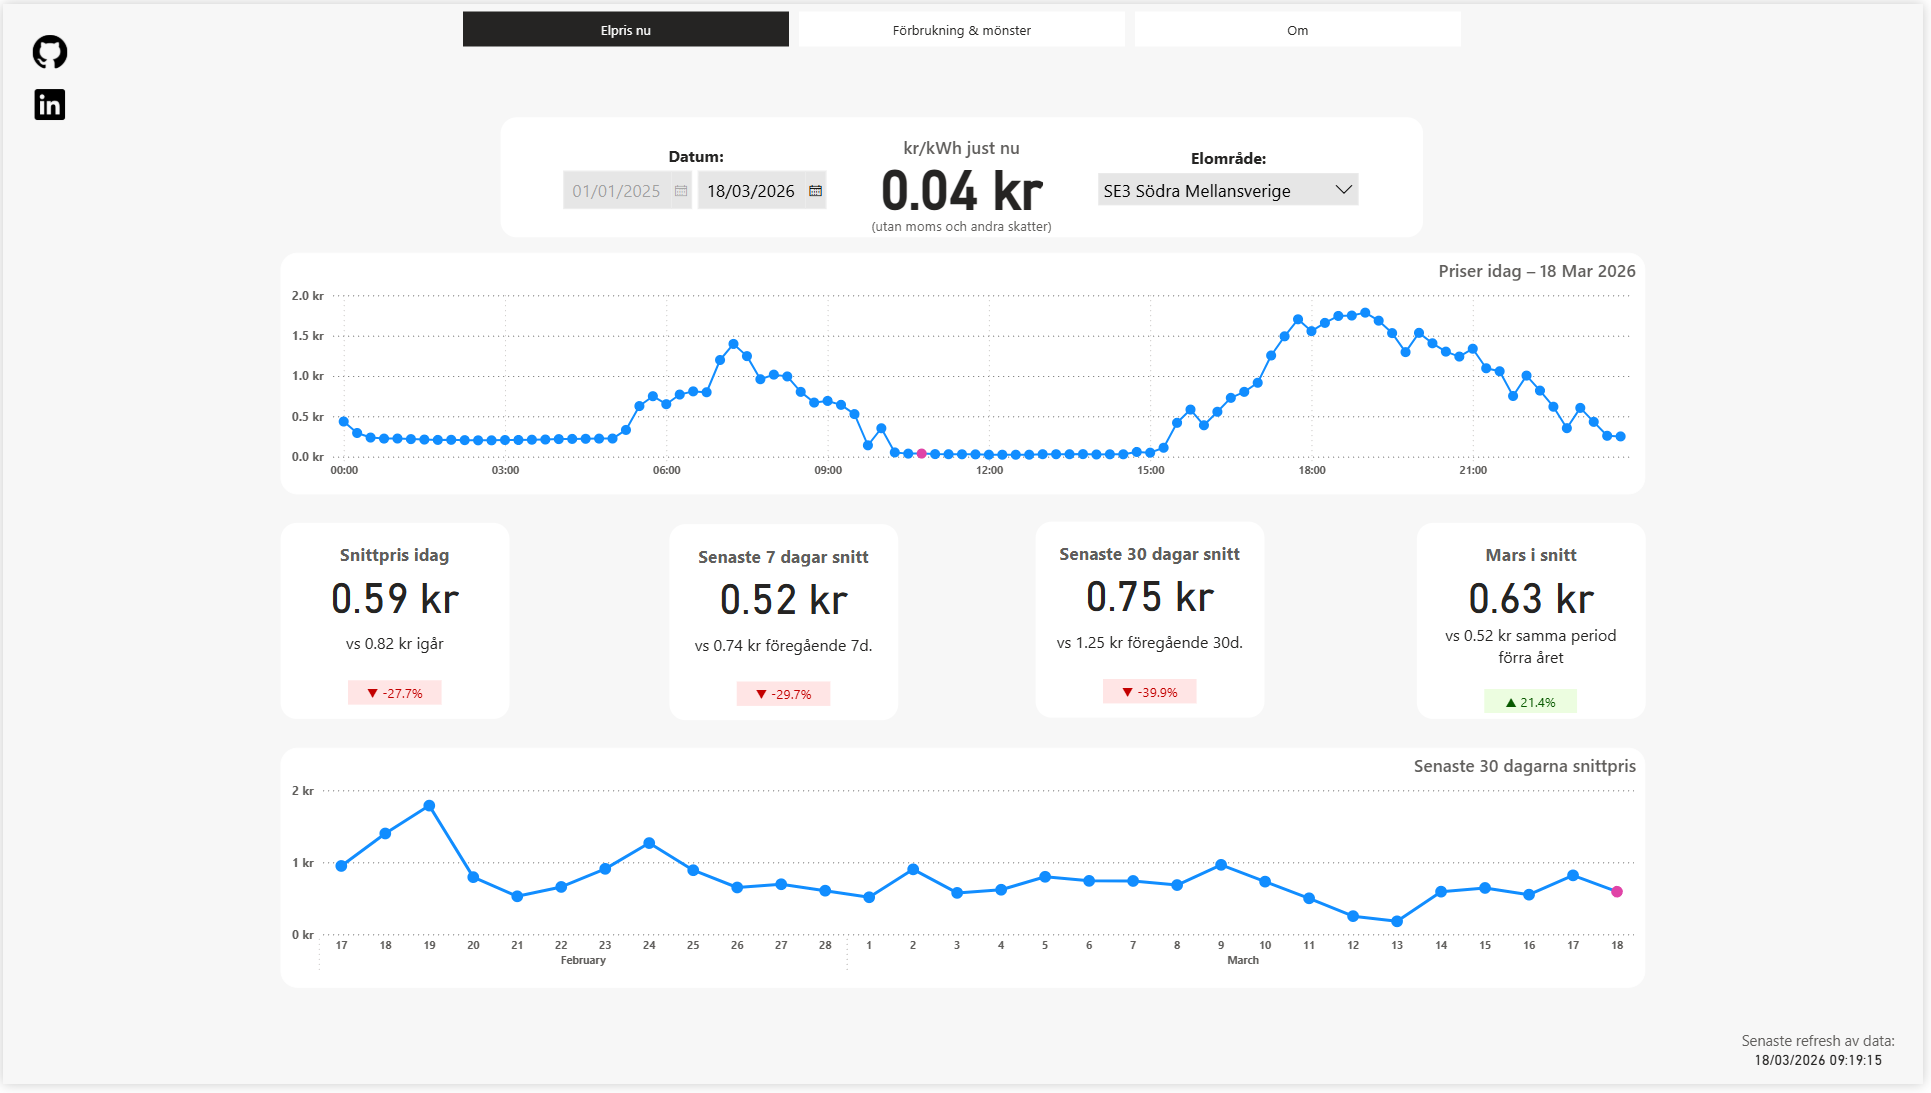

The page's visual inventory and layout, read from the dashboard file:
{"tool":"powerbi","page":{"name":"Elpris nu","canvas":[1920,1080],"ordinal":0},"visuals":[{"type":"shape","box":[0,0,1920,1081.3],"z":0},{"type":"cardVisual","fields":{"Data":["fact_prices.current_price"]},"box":[491.4,112.9,935.9,127.4],"z":0,"group":"g7"},{"type":"actionButton","box":[1162.5,132.8,126,40.2],"z":0,"group":"g1"},{"type":"actionButton","box":[625.7,132.9,135.7,37.1],"z":0,"group":"g2"},{"type":"cardVisual","fields":{"Data":["fact_prices.avg_price_last_30d"]},"box":[1026.7,511.8,241.2,208.8],"z":0,"group":"g5"},{"type":"cardVisual","fields":{"Data":["fact_prices.avg_price_today"]},"box":[271.4,512.1,241.2,208.8],"z":0,"group":"g4"},{"type":"cardVisual","fields":{"Data":["fact_prices.avg_price_mtd"]},"box":[1407.9,512.1,241.2,208.8],"z":0,"group":"g6"},{"type":"cardVisual","fields":{"Data":["fact_prices.avg_price_last_7d"]},"box":[659.7,513.2,241.2,208.8],"z":0,"group":"g3"},{"type":"image","title":"github lightmode","box":[24.9,25.8,44.4,43.2],"z":1000},{"type":"slicer","fields":{"Values":["dim_zone.zone_name_full"]},"box":[1088.4,159.7,267.3,47.3],"z":1000,"group":"g7"},{"type":"shape","box":[1100.4,676.1,94,24.4],"z":1000,"group":"g5"},{"type":"shape","box":[345.1,676.4,94,24.4],"z":1000,"group":"g4"},{"type":"shape","box":[733.4,677.5,94,24.4],"z":1000,"group":"g3"},{"type":"shape","box":[1482.2,685,92.9,24.3],"z":1000,"group":"g6"},{"type":"image","title":"in lightmode","box":[21.6,75.1,51.5,51],"z":2000},{"type":"shape","title":"dölj slicer","box":[553.5,117.1,140,46.5],"z":2500,"group":"g7"},{"type":"actionButton","title":"text - utan moms","box":[860.1,201.4,197.1,24.1],"z":3000,"group":"g7"},{"type":"group","id":"g1","title":"Group 3","box":[1162.5,132.8,126,40.2],"z":4000,"group":"g7"},{"type":"group","id":"g2","title":"Group 3","box":[625.7,132.9,135.7,37.1],"z":5000,"group":"g7"},{"type":"group","id":"g3","title":"Snittpris card 2","box":[659.7,513.2,240,207.8],"z":6000},{"type":"group","id":"g4","title":"Snittpris card 1","box":[271.4,512.1,241.4,207.1],"z":7000},{"type":"group","id":"g5","title":"Snittpris card 3","box":[1026.7,511.8,240,209.2],"z":8000},{"type":"group","id":"g6","title":"Snittpris card 4","box":[1407.9,512.1,241.4,207.1],"z":8500},{"type":"lineChart","fields":{"Y":["fact_prices.current_price_selected_day"],"Category":["fact_prices.time_start"]},"box":[277.5,249,1364.9,241.3],"z":9000},{"type":"lineChart","title":"Senaste 30 dagarna snittpris","fields":{"Category":["fact_prices.time_start.Variation.Date Hierarchy.Month","fact_prices.time_start.Variation.Date Hierarchy.Day"],"Y":["fact_prices.current_price_selected_month"]},"box":[277.5,744.1,1364.9,240],"z":10000},{"type":"pageNavigator","box":[460,7.1,1000,35.7],"z":13000},{"type":"cardVisual","fields":{"Data":["Min(latest_refresh.Last Refresh)"]},"box":[1711.2,1011.2,208.8,68.8],"z":14000},{"type":"group","id":"g7","title":"Just nu-grupp","box":[491.4,112.9,935.9,127.4],"z":15000},{"type":"bookmarkNavigator","title":"bokmärke dagens","box":[573,169,243.2,33],"z":18000}]}

Visuals, with their boxes in screenshot pixels (x1, y1, x2, y2), scaled from the page's 1920x1080 canvas onto the 1931x1093 screenshot:
shape: locate(0, 0, 1930, 1092)
cardVisual - fact_prices.current_price: locate(494, 114, 1435, 243)
actionButton: locate(1169, 134, 1296, 175)
actionButton: locate(629, 134, 766, 172)
cardVisual - fact_prices.avg_price_last_30d: locate(1033, 518, 1275, 729)
cardVisual - fact_prices.avg_price_today: locate(273, 518, 516, 730)
cardVisual - fact_prices.avg_price_mtd: locate(1416, 518, 1659, 730)
cardVisual - fact_prices.avg_price_last_7d: locate(663, 519, 906, 731)
"github lightmode" image: locate(25, 26, 70, 70)
slicer - dim_zone.zone_name_full: locate(1095, 162, 1363, 209)
shape: locate(1107, 684, 1201, 709)
shape: locate(347, 685, 442, 709)
shape: locate(738, 686, 832, 710)
shape: locate(1491, 693, 1584, 718)
"in lightmode" image: locate(22, 76, 74, 128)
"dölj slicer" shape: locate(557, 119, 697, 166)
"text - utan moms" actionButton: locate(865, 204, 1063, 228)
"Group 3" group: locate(1169, 134, 1296, 175)
"Group 3" group: locate(629, 134, 766, 172)
"Snittpris card 2" group: locate(663, 519, 905, 730)
"Snittpris card 1" group: locate(273, 518, 516, 728)
"Snittpris card 3" group: locate(1033, 518, 1274, 730)
"Snittpris card 4" group: locate(1416, 518, 1659, 728)
lineChart - fact_prices.current_price_selected_day x fact_prices.time_start: locate(279, 252, 1652, 496)
"Senaste 30 dagarna snittpris" lineChart: locate(279, 753, 1652, 996)
pageNavigator: locate(463, 7, 1468, 43)
cardVisual - Min(latest_refresh.Last Refresh): locate(1721, 1023, 1930, 1092)
"Just nu-grupp" group: locate(494, 114, 1435, 243)
"bokmärke dagens" bookmarkNavigator: locate(576, 171, 821, 204)
